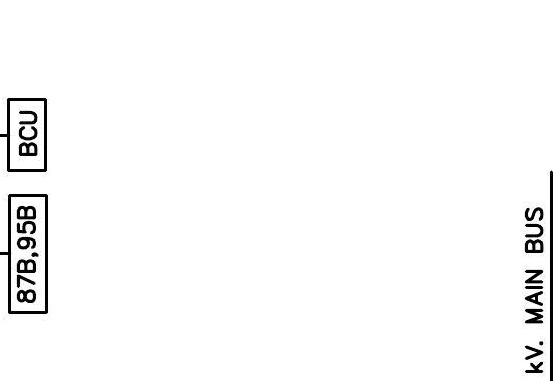BCU: (6, 97, 48, 173)
